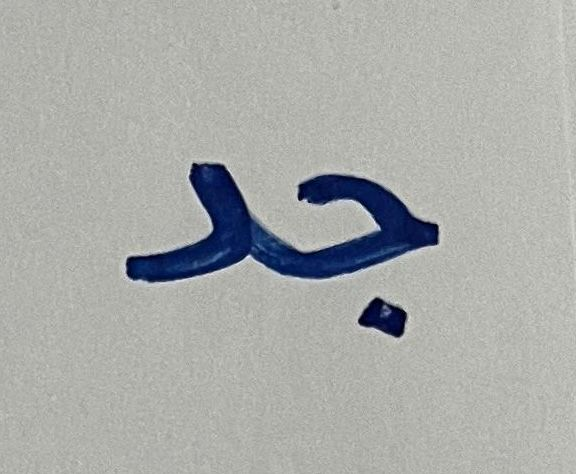dal: (95, 125, 264, 356)
jeem: (271, 136, 465, 382)
